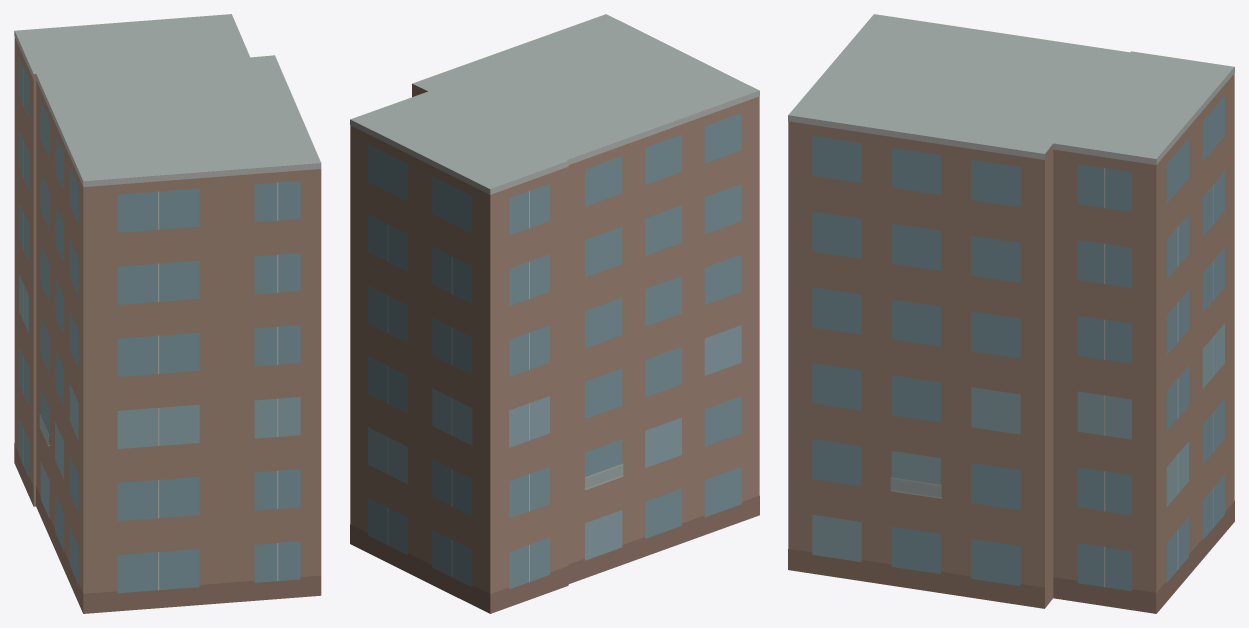
Rendered from survey-upis-32976024.glb.
3 renders of one model, left to right at view 1: azimuth 30°, elevation 25°; view 2: azimuth 150°, elevation 25°; view 3: azimuth 270°, elevation 25°, orthographic. The views are drawn at different scales.
Visible parts, largest first — view 1: survey-upis-32976024.tmp; view 2: survey-upis-32976024.tmp; view 3: survey-upis-32976024.tmp.
Boxes of the visible parts, x1,y1,x2,y2 form: survey-upis-32976024.tmp: (14, 14, 321, 613); survey-upis-32976024.tmp: (350, 14, 759, 613); survey-upis-32976024.tmp: (788, 14, 1234, 613).
Size of the model in its own units: 12.53 by 18.3 by 16.3.
